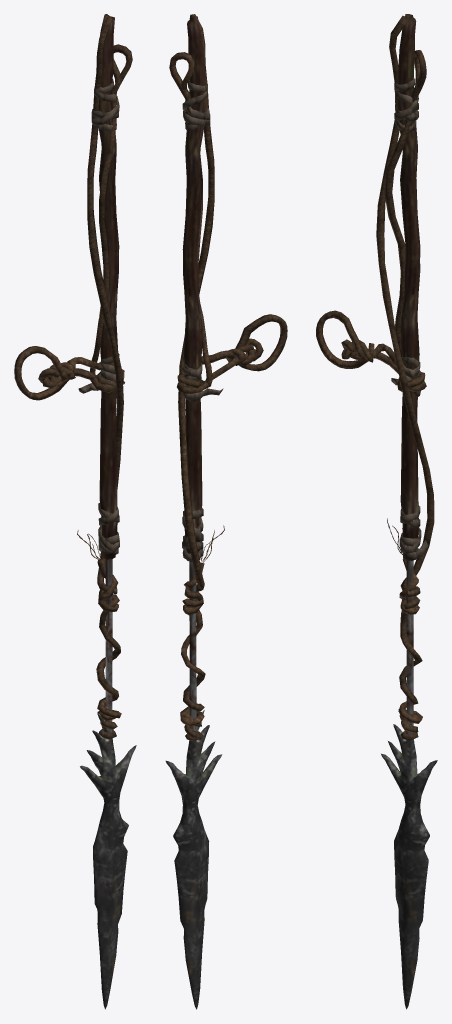
Rendered from weapon-wp_a_0909.glb.
The picture shows the model from 3 angles, left to right: view 1: azimuth 30°, elevation 25°; view 2: azimuth 210°, elevation 25°; view 3: azimuth 330°, elevation 25°; orthographic projection.
Parts seen in each view (by area): view 1: wp_a_0909_mesh; view 2: wp_a_0909_mesh; view 3: wp_a_0909_mesh.
Part boxes in pixels (x1=…): wp_a_0909_mesh: x1=14, y1=14, x2=136, y2=1009; wp_a_0909_mesh: x1=165, y1=14, x2=287, y2=1009; wp_a_0909_mesh: x1=316, y1=14, x2=437, y2=1009.
Bounding box in the file's own units: 0.275 × 2.16 × 0.0927.
Materials: 2 (2 with a texture image).
